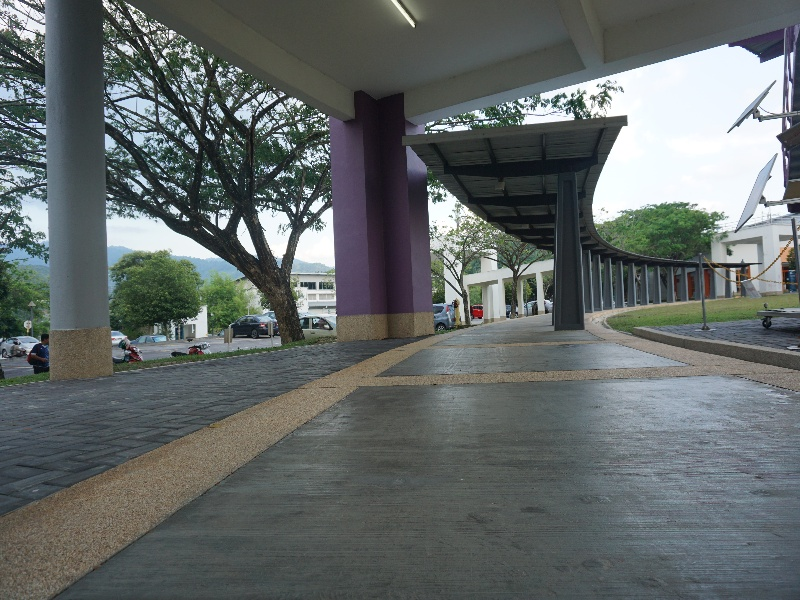Block D Pillar 6: (5, 2, 796, 503)
pillar: (35, 1, 124, 390), (325, 82, 441, 344), (554, 164, 585, 334)
